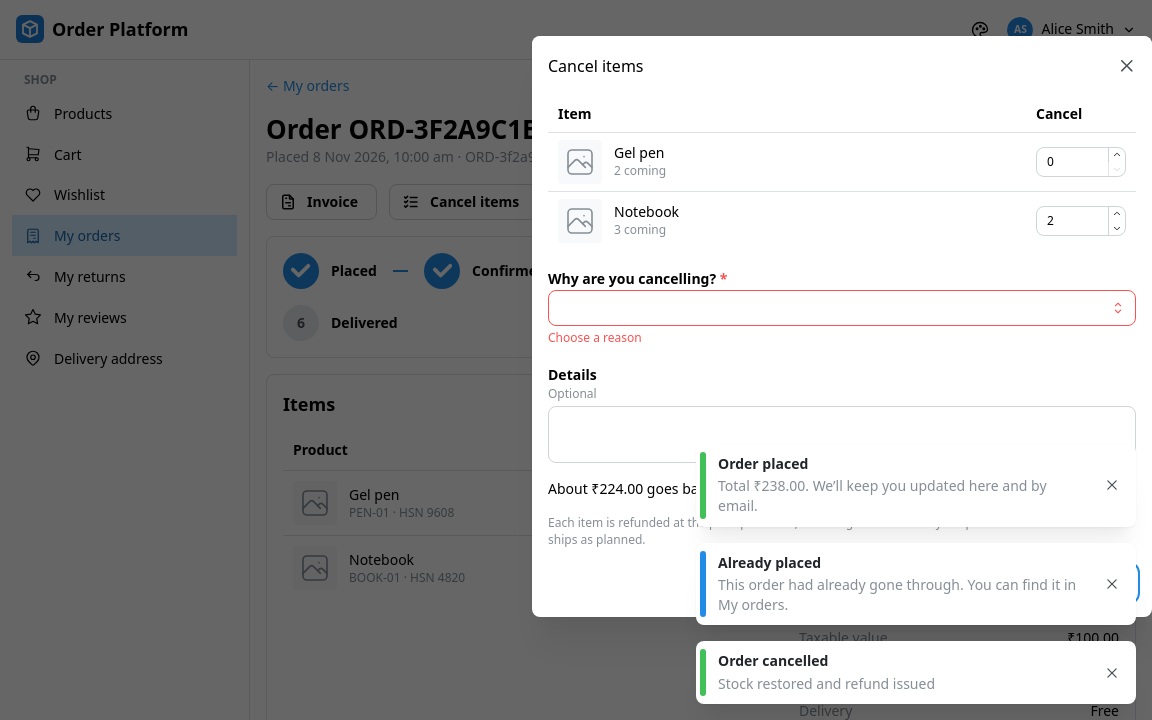
Test: order page › cancels some items before dispatch, and shows the credit note
Earlier steps of the test are not shown.
Check: the text "Choose a reason" is shown, box [548,330,642,346]
Click the dropdown labelled "Why are you cancelling? *" at {"x": 842, "y": 308}, box [548,290,1136,326]
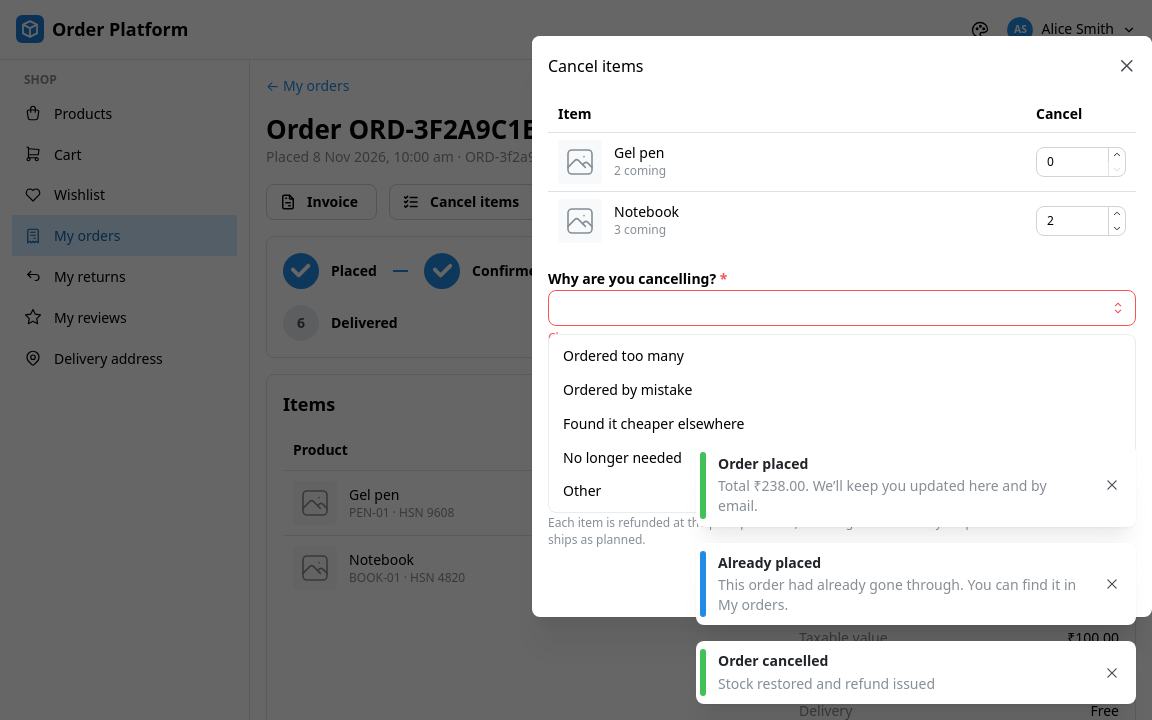
Click the option "Ordered too many" at {"x": 624, "y": 356}, box [563,346,684,366]
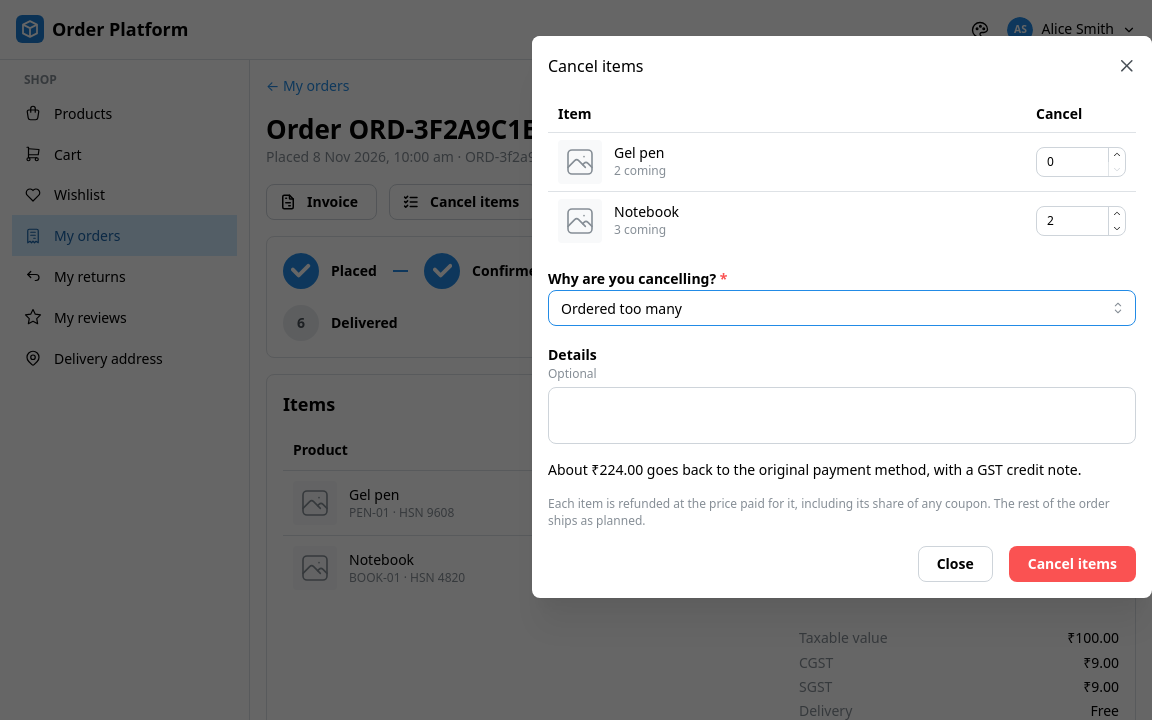
Click the button "Cancel items" at {"x": 1072, "y": 564}, box [1009,546,1136,582]
(page scrolled)
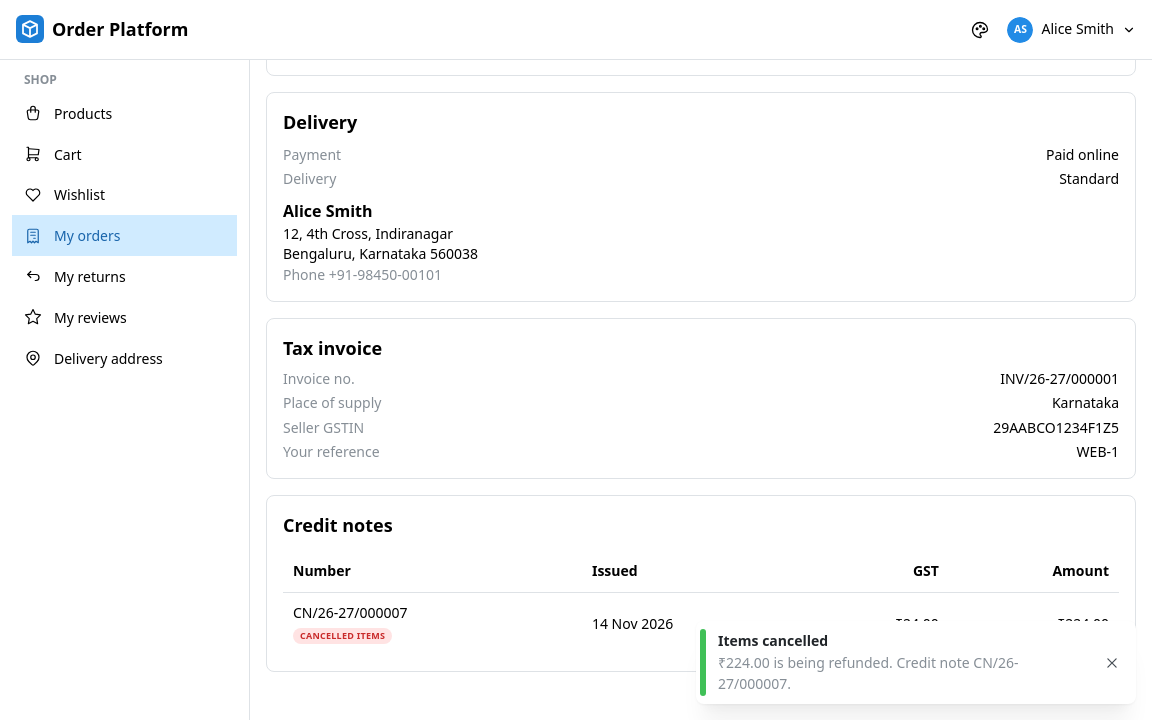
Check: the text "CN/26-27/000007" is shown, box [293,603,408,622]
Check: the text "Cancelled items" is shown, box [300,629,385,643]
